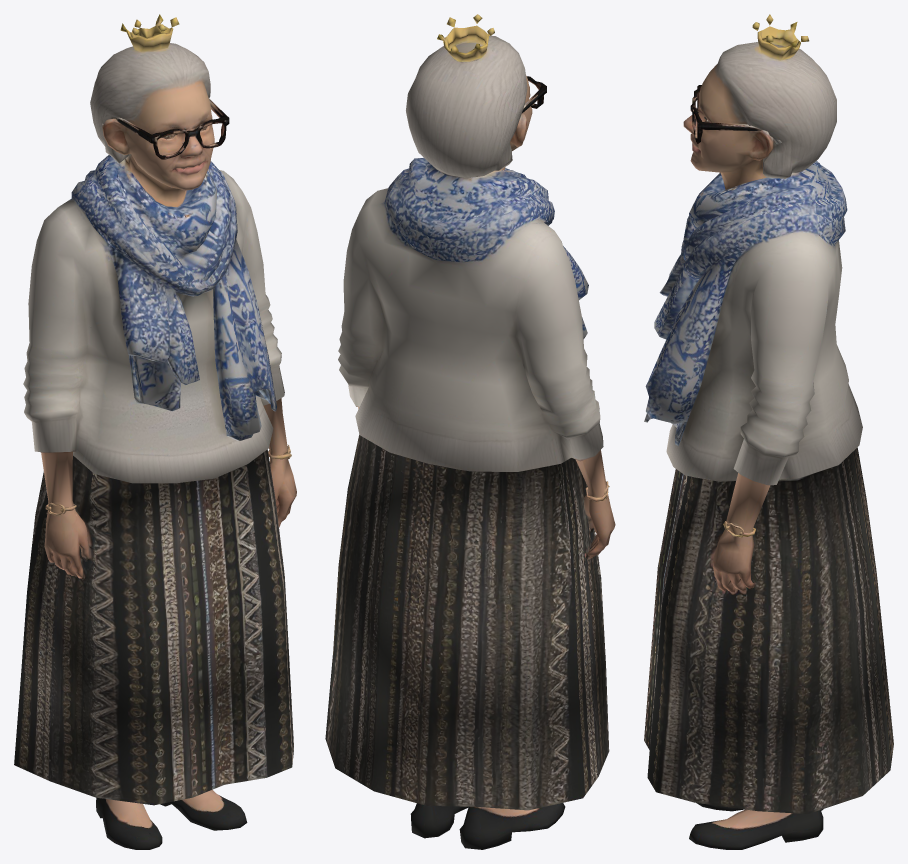
Rendered from selected.glb.
The picture shows the model from 3 angles, left to right: view 1: azimuth 30°, elevation 25°; view 2: azimuth 150°, elevation 25°; view 3: azimuth 270°, elevation 25°; orthographic projection.
Visible parts, largest first — view 1: tripo_node_b99395c3-17ab-41d0-9afb-e73dacb02d55; view 2: tripo_node_b99395c3-17ab-41d0-9afb-e73dacb02d55; view 3: tripo_node_b99395c3-17ab-41d0-9afb-e73dacb02d55.
Part boxes in pixels (left/top/right/bottom): tripo_node_b99395c3-17ab-41d0-9afb-e73dacb02d55: left=14, top=14, right=296, bottom=849; tripo_node_b99395c3-17ab-41d0-9afb-e73dacb02d55: left=325, top=14, right=615, bottom=849; tripo_node_b99395c3-17ab-41d0-9afb-e73dacb02d55: left=644, top=14, right=893, bottom=849.
Size of the model in its own units: 0.3301 by 0.998 by 0.2832.
Materials: 1 (1 with a texture image).
